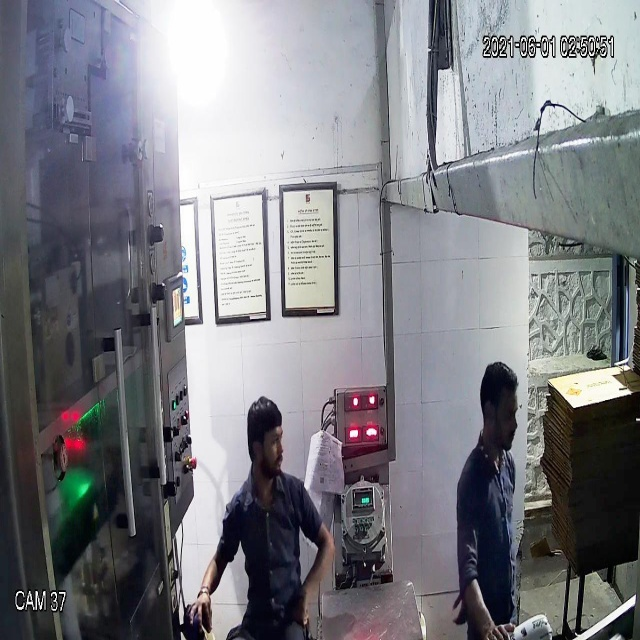Sin_gafas: (240, 426, 291, 460)
